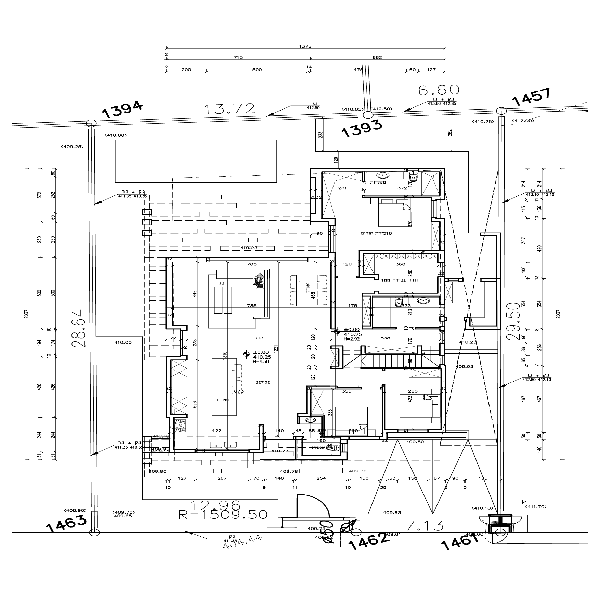room: (161, 244, 351, 464), (344, 242, 459, 444), (308, 161, 452, 255)
wall: (188, 253, 317, 265), (325, 259, 344, 335), (167, 447, 268, 460), (316, 165, 444, 174), (165, 258, 179, 330), (437, 367, 453, 428), (362, 246, 439, 258), (164, 357, 176, 417), (257, 421, 276, 453), (300, 455, 349, 463), (437, 174, 450, 200), (437, 276, 447, 306), (437, 222, 449, 243), (294, 436, 304, 459)
